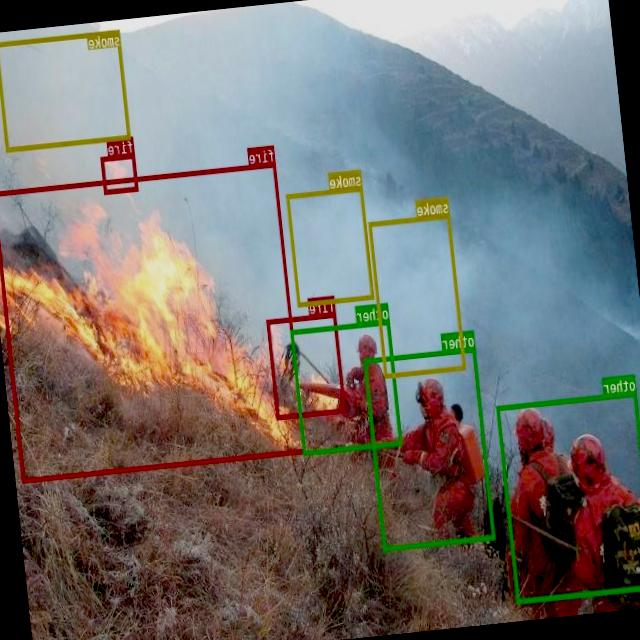fire: (0, 161, 306, 482), (266, 311, 346, 418), (100, 152, 139, 193)
smoke: (368, 212, 466, 377), (0, 29, 130, 151), (286, 186, 374, 305)
